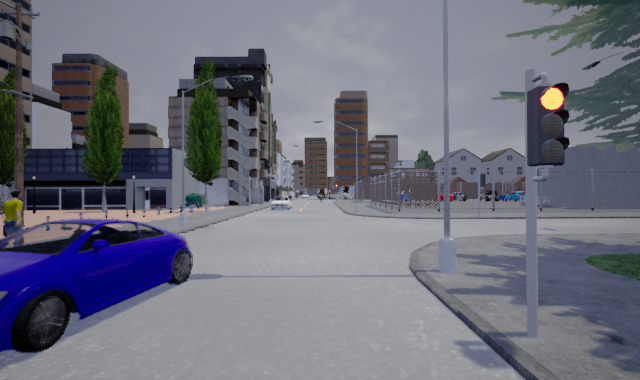pedestrian: (1, 188, 28, 258)
traffic_light: (526, 83, 570, 167)
vehicle: (1, 215, 193, 358), (503, 190, 530, 204), (270, 196, 293, 210), (479, 188, 500, 201), (445, 191, 468, 202)
